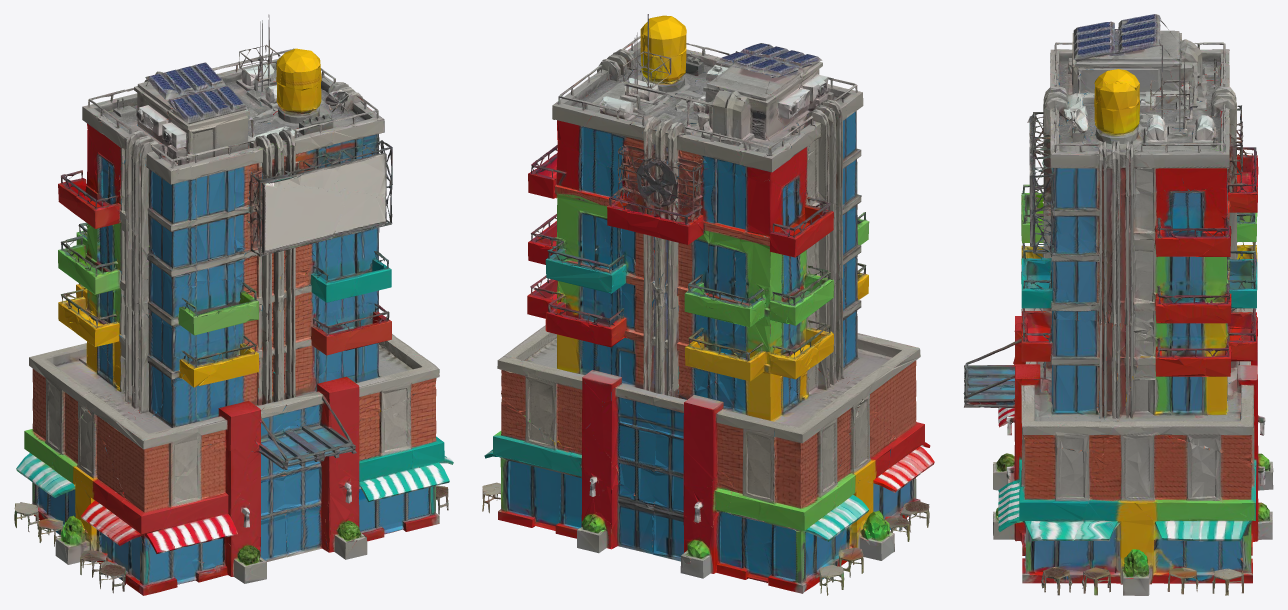
File: JHB_HeroBuilding07_LOD0.fbx
3 renders of one model, left to right at view 1: azimuth 30°, elevation 25°; view 2: azimuth 150°, elevation 25°; view 3: azimuth 270°, elevation 25°, orthographic. The views are drawn at different scales.
Visible parts, largest first — view 1: JHB_HeroBuilding07_LOD0; view 2: JHB_HeroBuilding07_LOD0; view 3: JHB_HeroBuilding07_LOD0.
Boxes of the visible parts, x1,y1,x2,y2 form: JHB_HeroBuilding07_LOD0: (14,14,453,595); JHB_HeroBuilding07_LOD0: (482,14,934,595); JHB_HeroBuilding07_LOD0: (963,14,1273,595).
Bounding box in the file's own units: 13.62 × 18 × 10.35.
